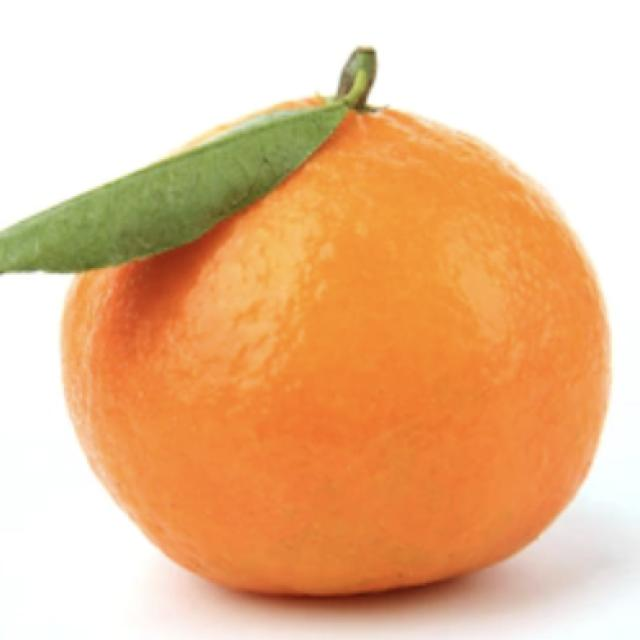orange: (63, 109, 608, 594)
